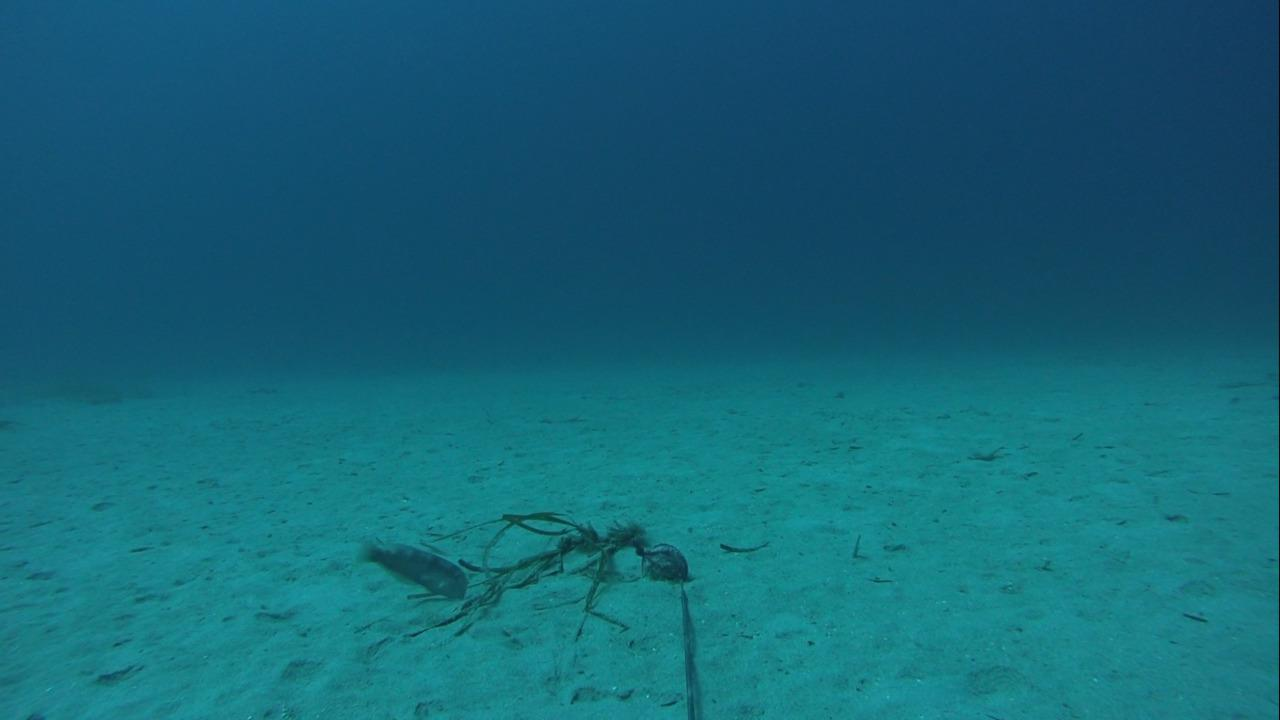raor: (354, 537, 472, 607)
